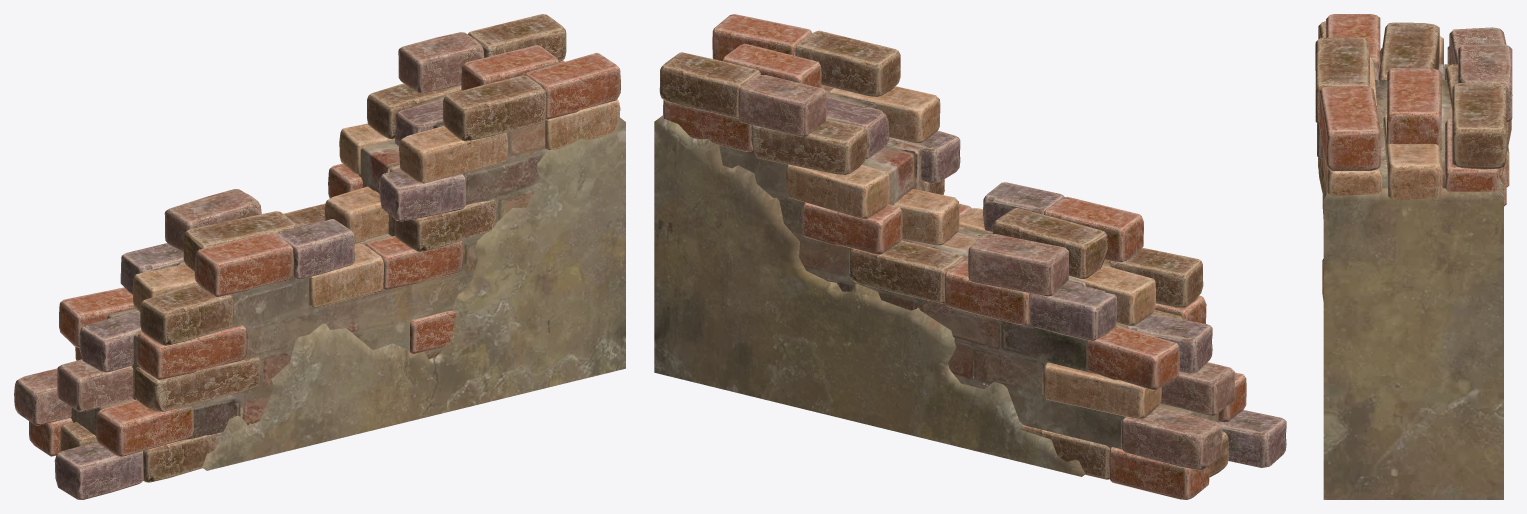
3 views of the same model, side by side, from view 1: azimuth 30°, elevation 25°; view 2: azimuth 150°, elevation 25°; view 3: azimuth 270°, elevation 25° (orthographic). The views are drawn at different scales.
Visible parts, largest first — view 1: SM_Human_Ruins_LowWall_Dmg_05_LOD0; view 2: SM_Human_Ruins_LowWall_Dmg_05_LOD0; view 3: SM_Human_Ruins_LowWall_Dmg_05_LOD0.
Boxes of the visible parts, box(x1,y1,x2,y2) form: SM_Human_Ruins_LowWall_Dmg_05_LOD0: box(14, 14, 625, 499); SM_Human_Ruins_LowWall_Dmg_05_LOD0: box(654, 14, 1286, 499); SM_Human_Ruins_LowWall_Dmg_05_LOD0: box(1315, 14, 1512, 499).
Size of the model in its own units: 2.14 by 1.13 by 0.5465.
3 materials, 3 textured.
